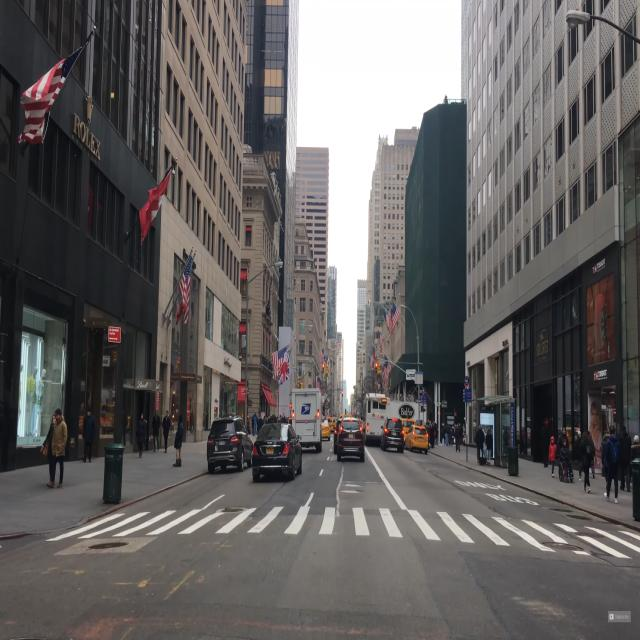Crosswalk: (38, 505, 640, 560)
